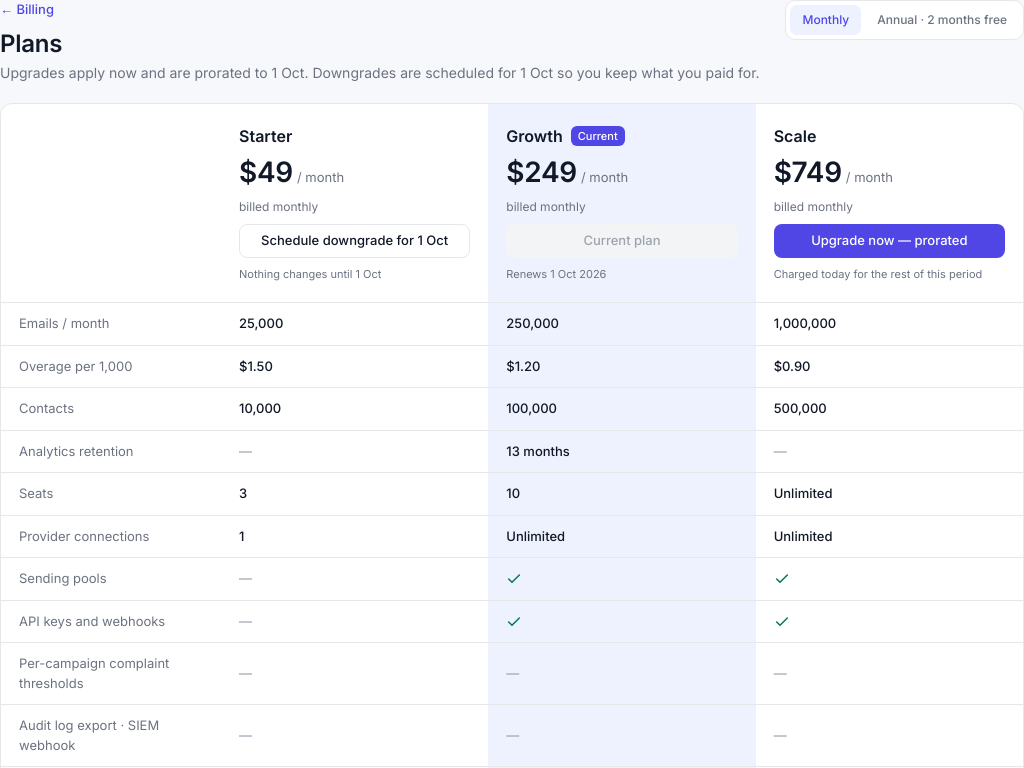
a blocked downgrade (I3) › keeps the schedule button disabled while anything is over
Click the button "Schedule downgrade for 1 Oct": (355, 241) [239, 224, 470, 258]
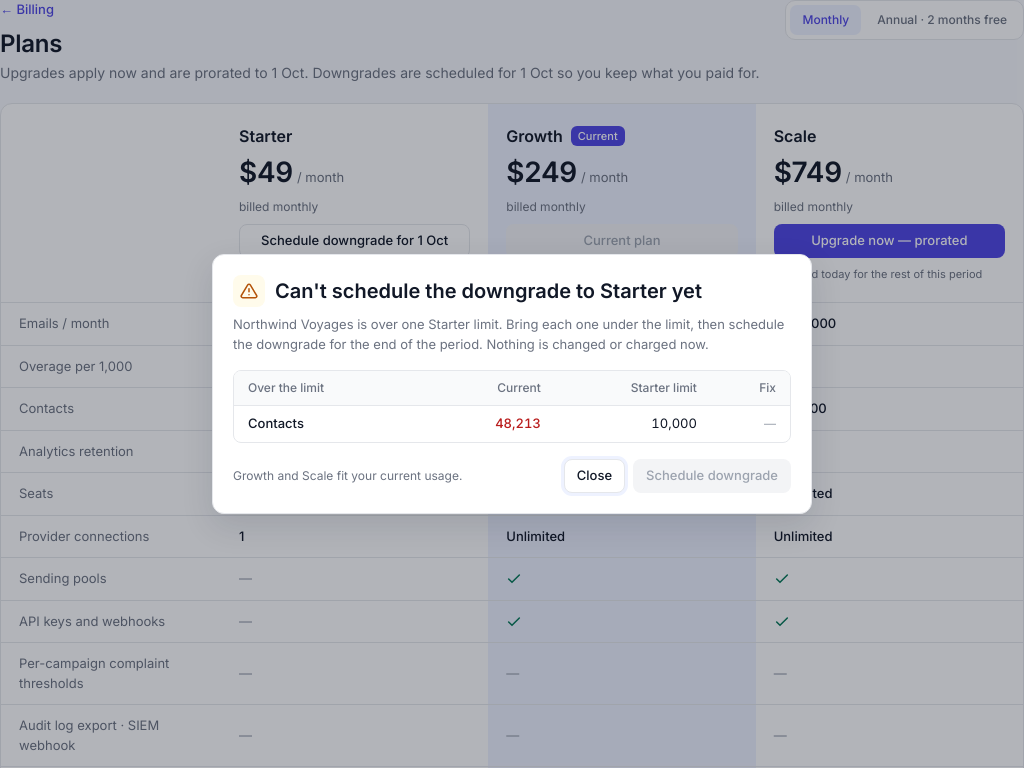
Result: the button "Schedule downgrade" is disabled at [633, 459, 791, 493]
